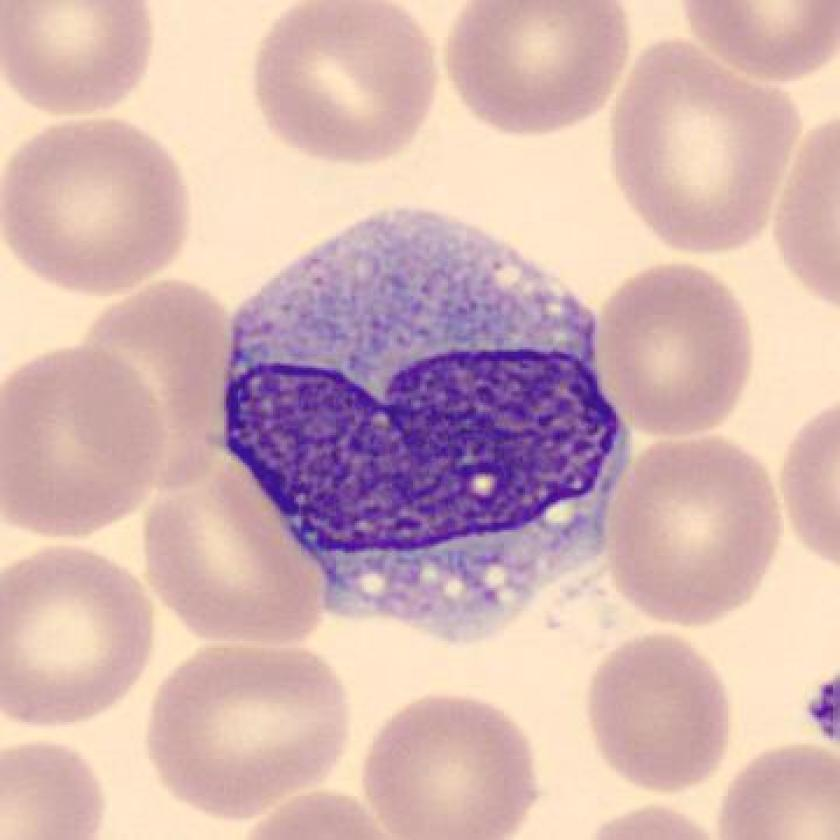monocyte: (209, 191, 645, 656)
